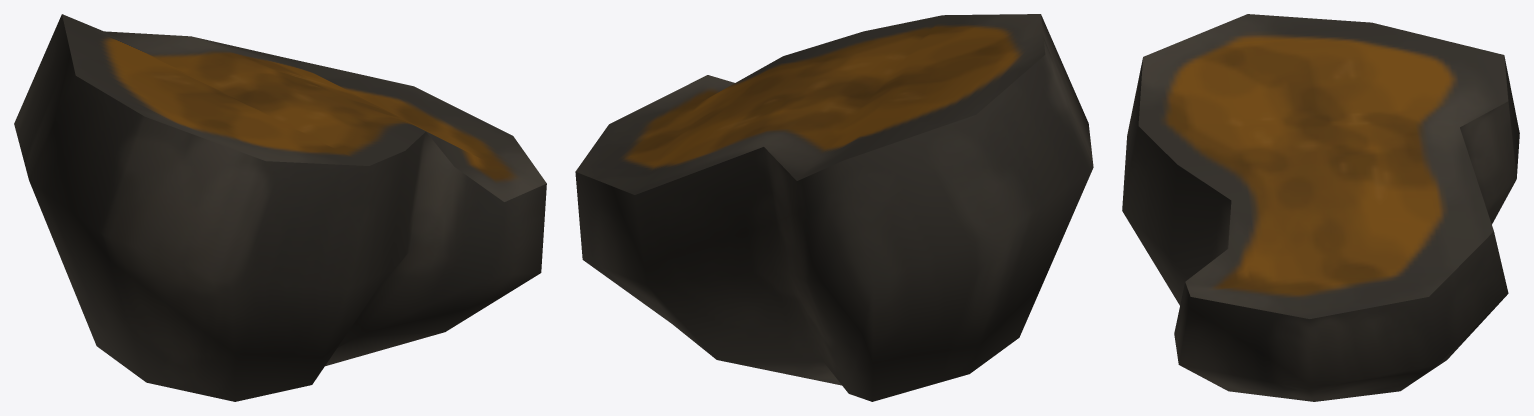
File: herb_pakurikaapa.FBX
3 renders of one model, left to right at view 1: azimuth 30°, elevation 25°; view 2: azimuth 150°, elevation 25°; view 3: azimuth 270°, elevation 25°, orthographic. The views are drawn at different scales.
Visible parts, largest first — view 1: pakurikaapa; view 2: pakurikaapa; view 3: pakurikaapa.
Part boxes in pixels (left/top/right/bottom): pakurikaapa: left=14, top=14, right=546, bottom=401; pakurikaapa: left=575, top=14, right=1093, bottom=401; pakurikaapa: left=1122, top=14, right=1519, bottom=401.
Bounding box in the file's own units: 39.27 × 28.42 × 33.63.
